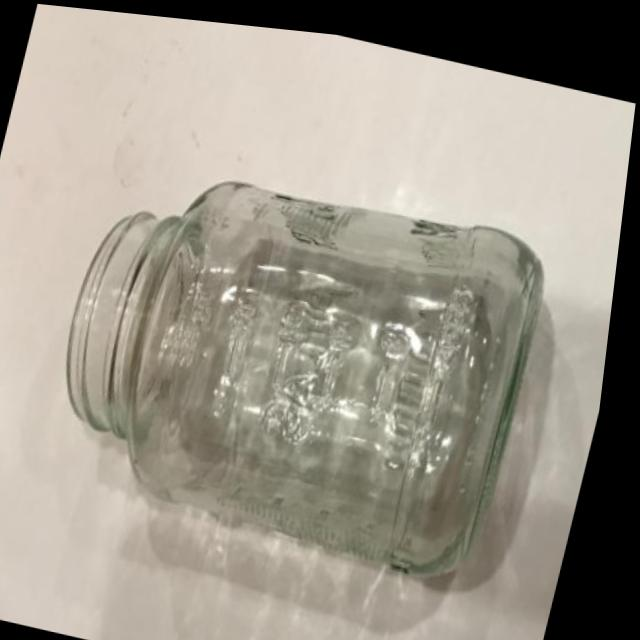glass: (2, 78, 605, 632)
